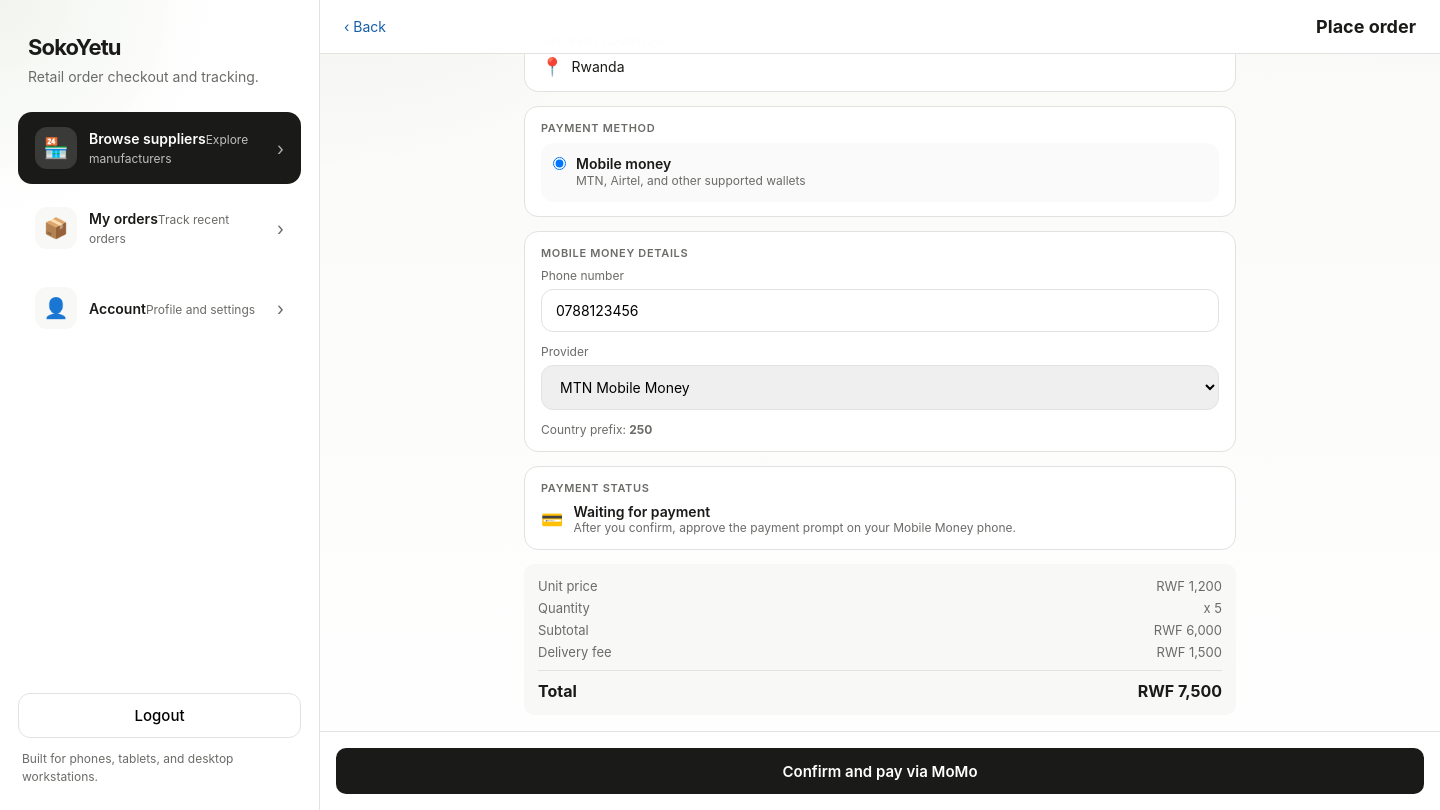
Test: placing the order › creates the order and the deposit, then confirms the payment
(page scrolled)
Click the button "Confirm and pay via MoMo": (880, 771) [336,748,1424,794]
(page scrolled)
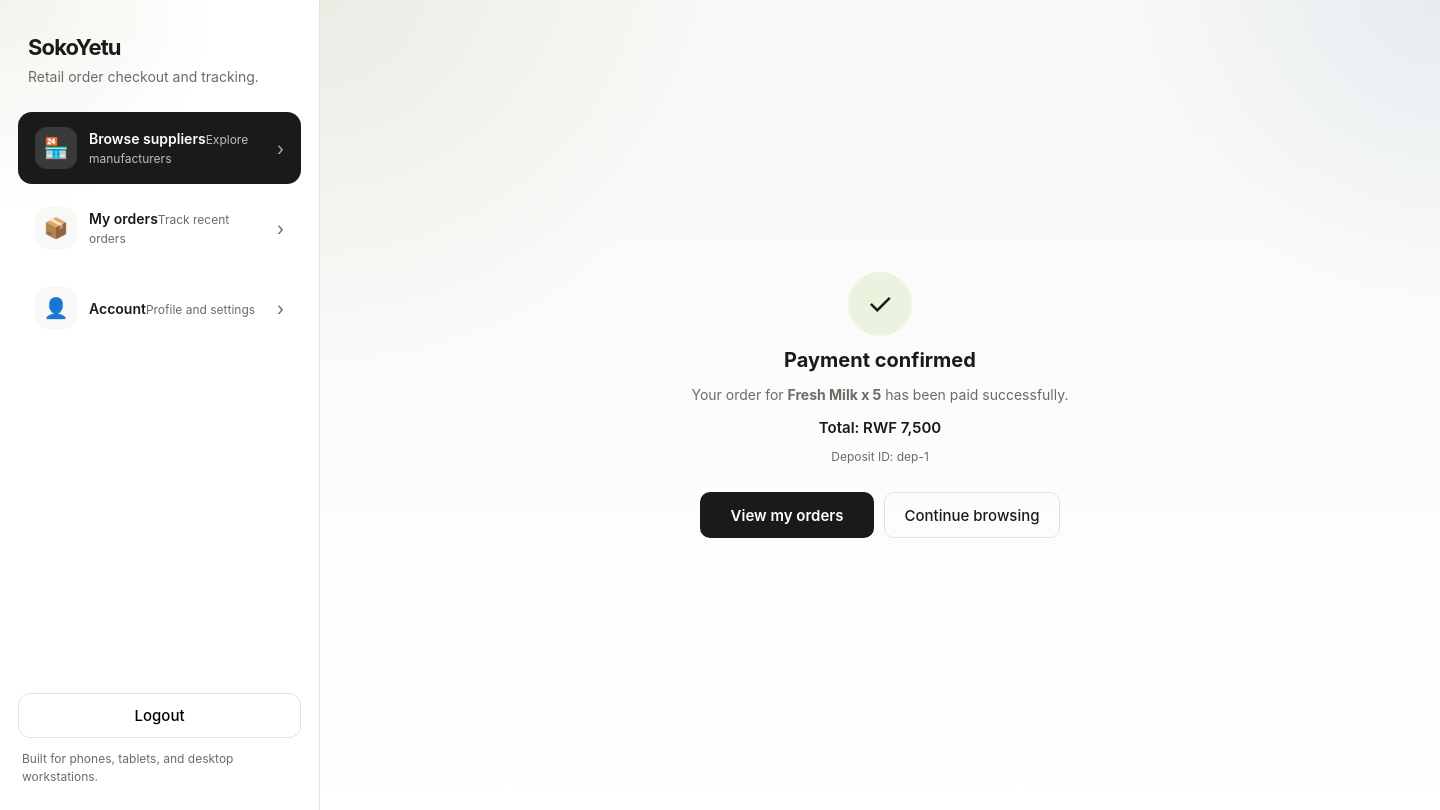
Expected: the heading "Payment confirmed" is shown, [784,348,976,372]
Expected: the text "Total: RWF 7,500" is shown, [819,418,941,437]
Expected: the text "Deposit ID: dep-1" is shown, [831,449,929,464]
